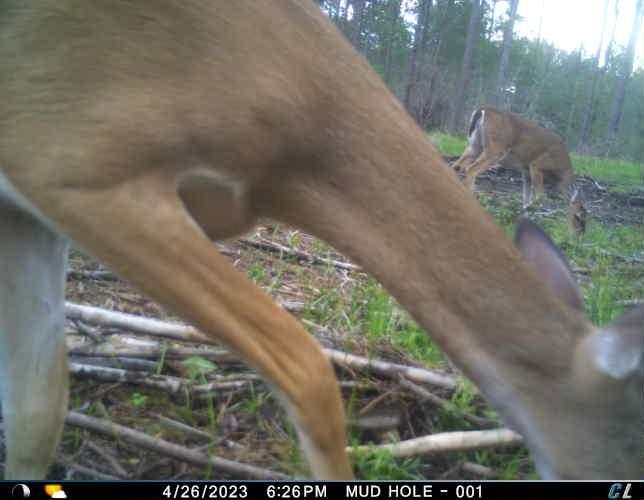Deer: (4, 6, 643, 480), (452, 108, 618, 219)
